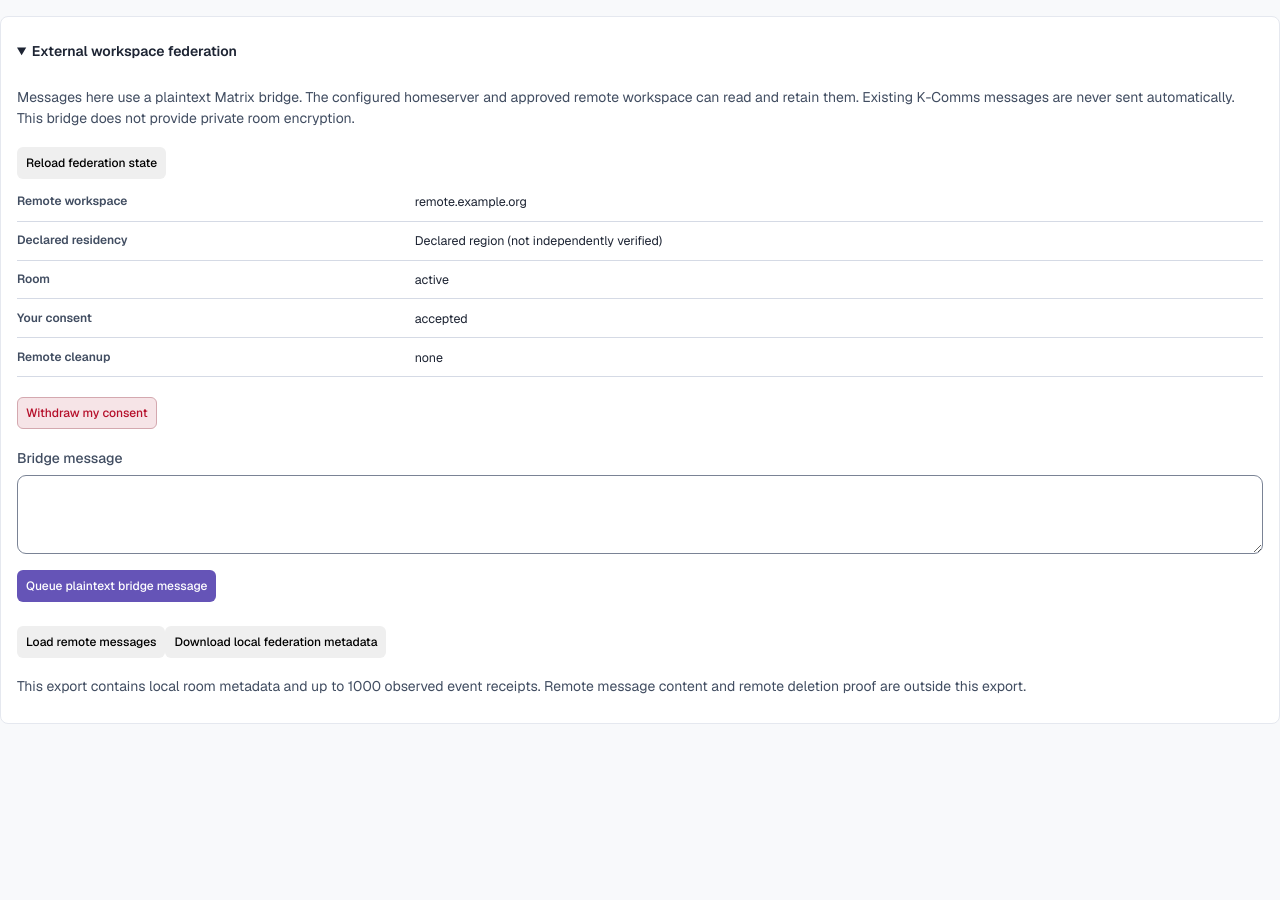
it: explicit plaintext federation controls › loads only after opening and renders remote text without interpreting markup
The width and height of the screenshot is (1280, 900).
Check: the text "Your consent" is shown, box [17,310,92,326]
Click the button "Load remote messages" at (91, 642), box [17,626,166,658]
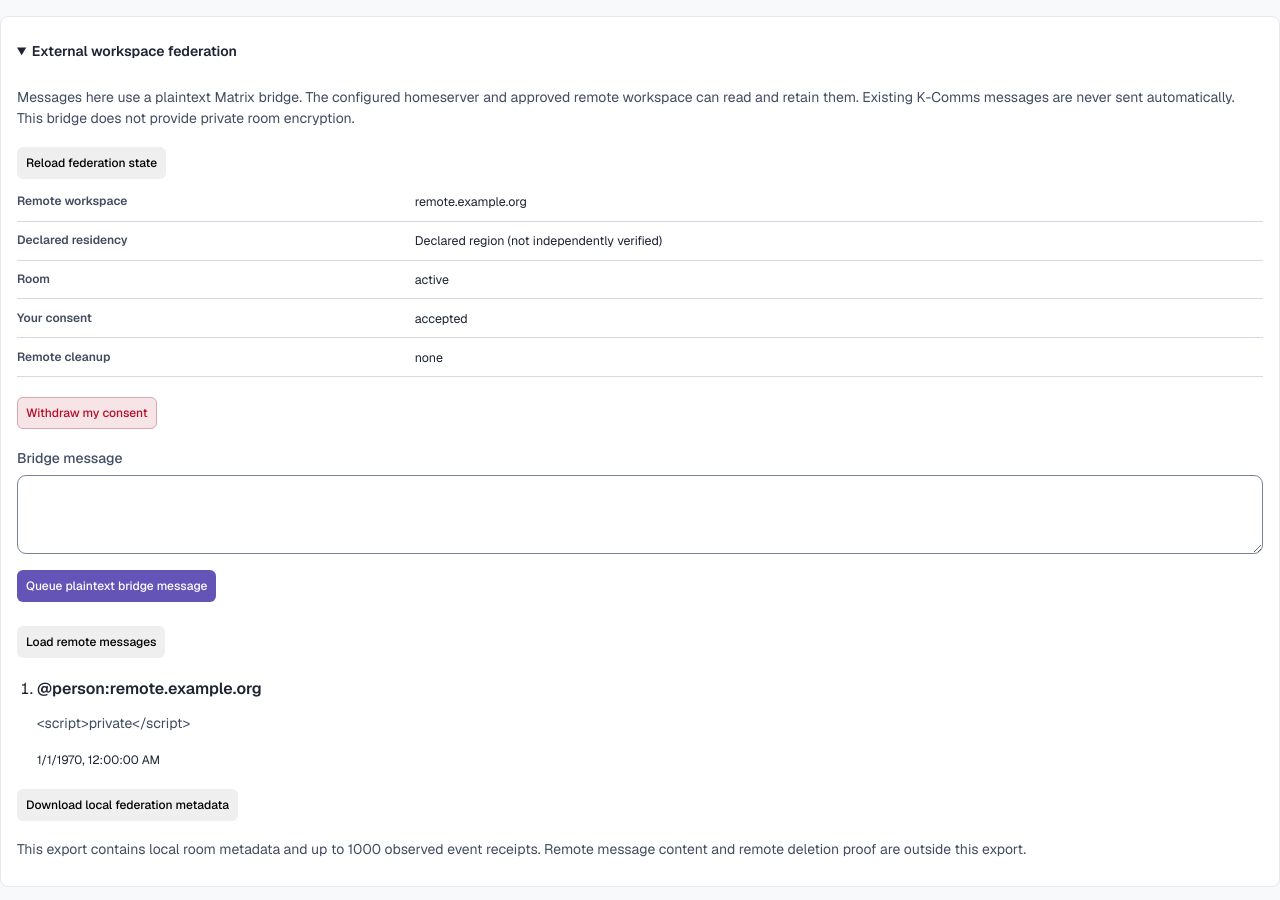
Check: the text "<script>private</script>" is shown, box [37,714,190,732]
